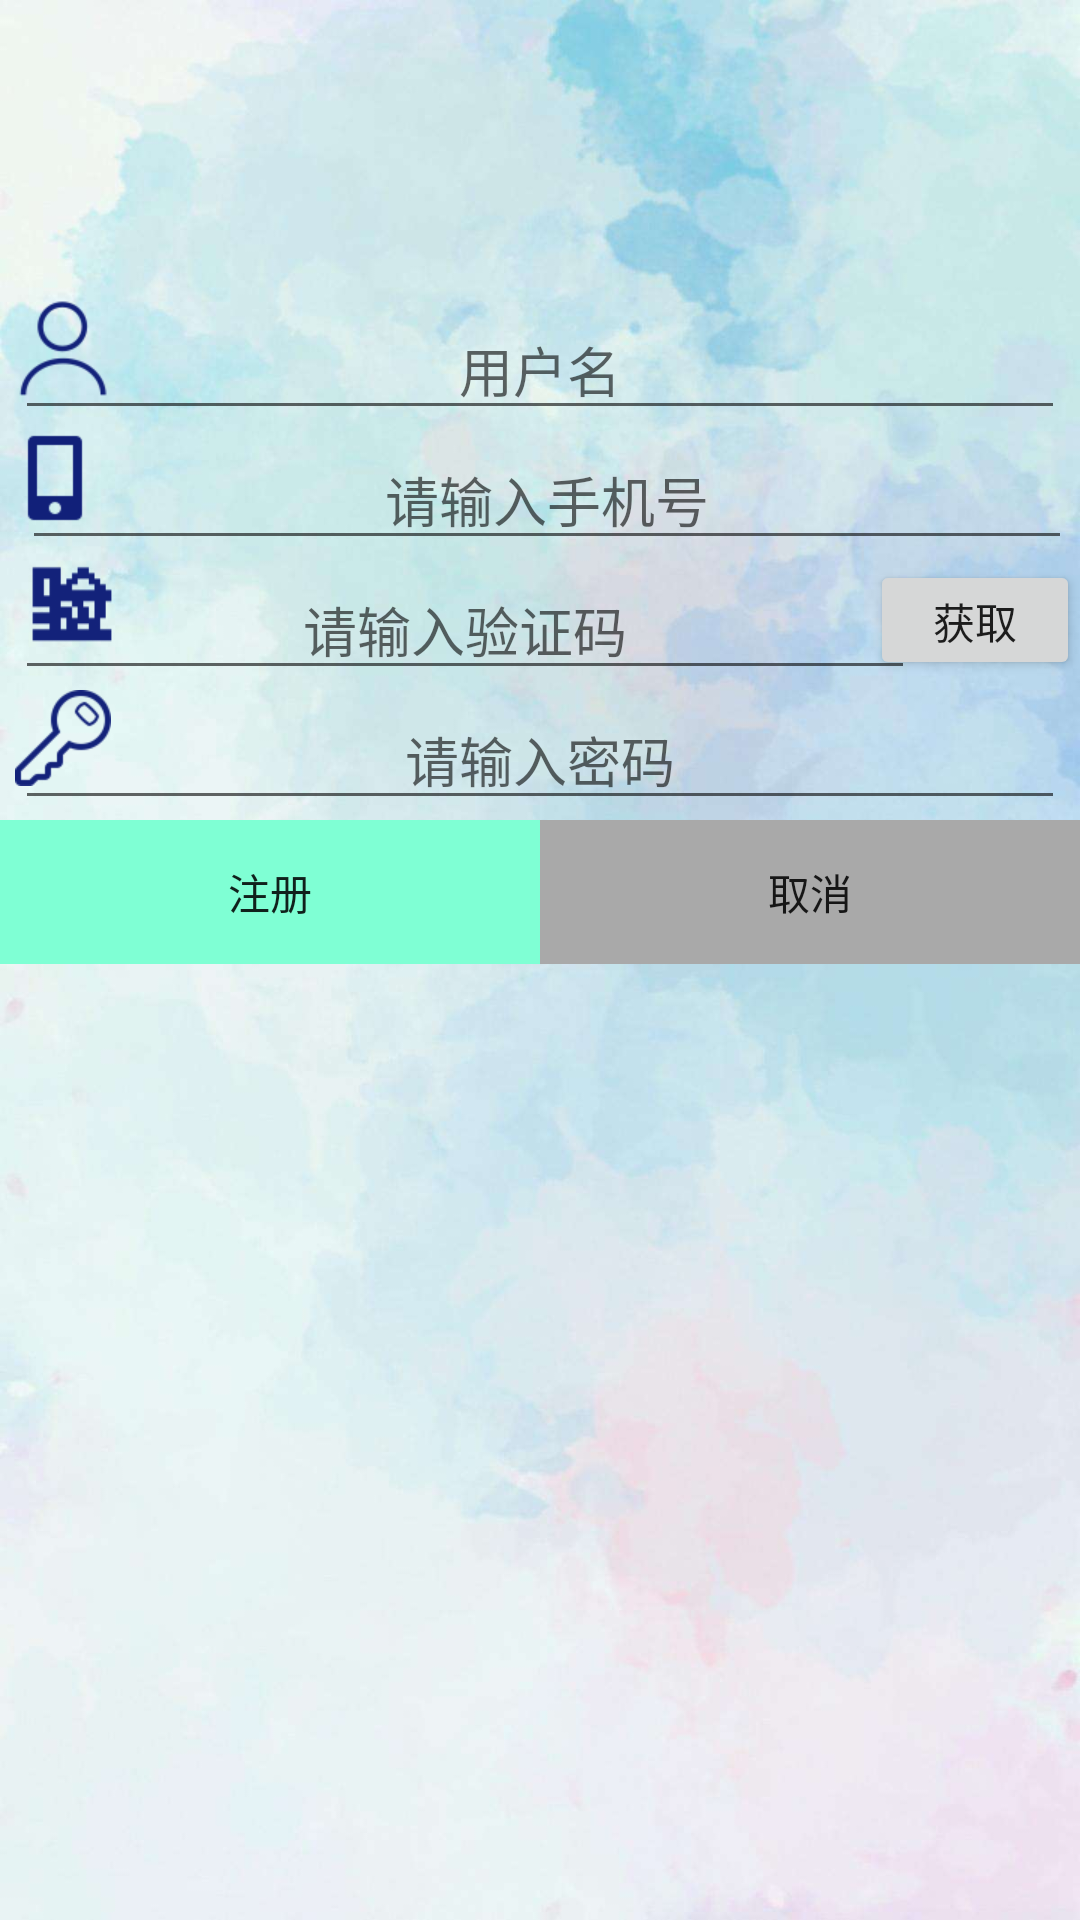

Icon bounding boxes for this 1080px×1920px phone screenshot, format (x1, y1, x2, y2):
num: (27, 435, 83, 521)
password: (15, 690, 111, 786)
user: (15, 300, 107, 396)
